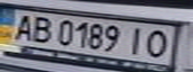0: (51, 17, 75, 47)
1: (72, 19, 90, 48)
8: (87, 20, 106, 52)
9: (103, 22, 127, 54)
A: (6, 11, 39, 42)
B: (27, 14, 57, 44)
I: (124, 25, 148, 56)
O: (139, 27, 175, 58)
